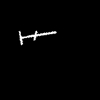double_crochet: (19, 31, 55, 44)
